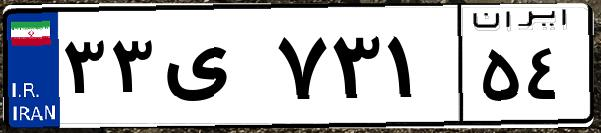1: (385, 28, 445, 110)
3: (330, 28, 385, 110), (57, 26, 110, 100), (110, 28, 158, 98)
4: (525, 38, 570, 115)
5: (475, 38, 525, 113)
7: (270, 28, 330, 110)
ی: (158, 20, 270, 120)
